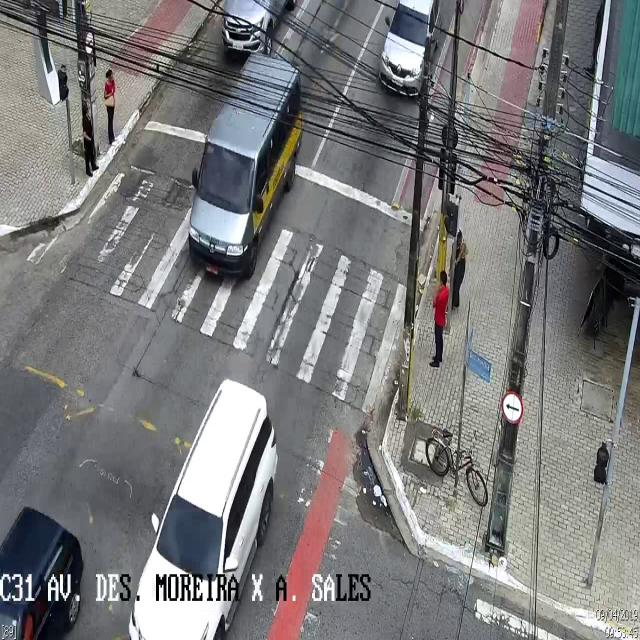Car: (128, 378, 276, 639), (189, 53, 301, 280), (379, 5, 437, 98), (220, 0, 302, 62)
